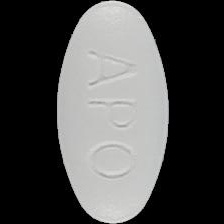50268-094: (0, 0, 224, 224)
